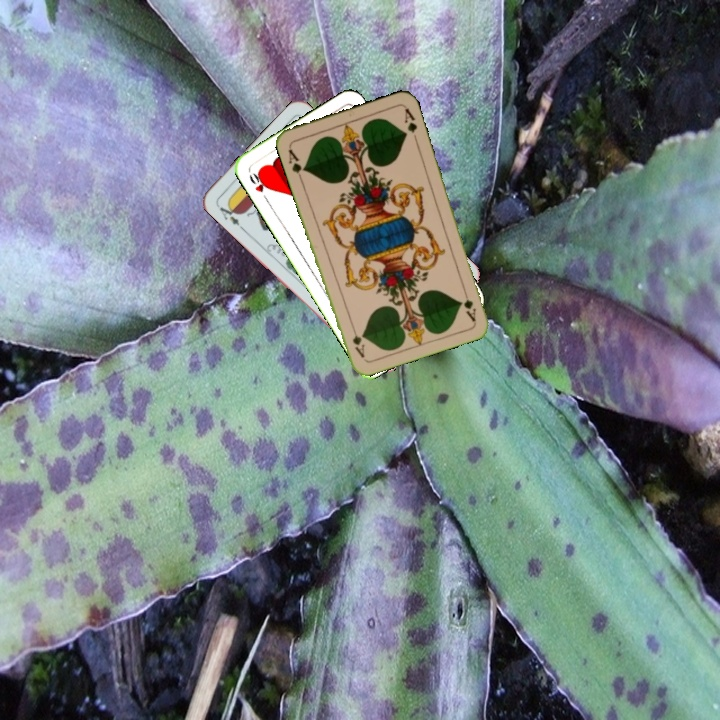EA: (213, 199, 246, 232)
GA: (284, 143, 308, 183), (459, 284, 478, 324)
HO: (245, 168, 272, 204)
